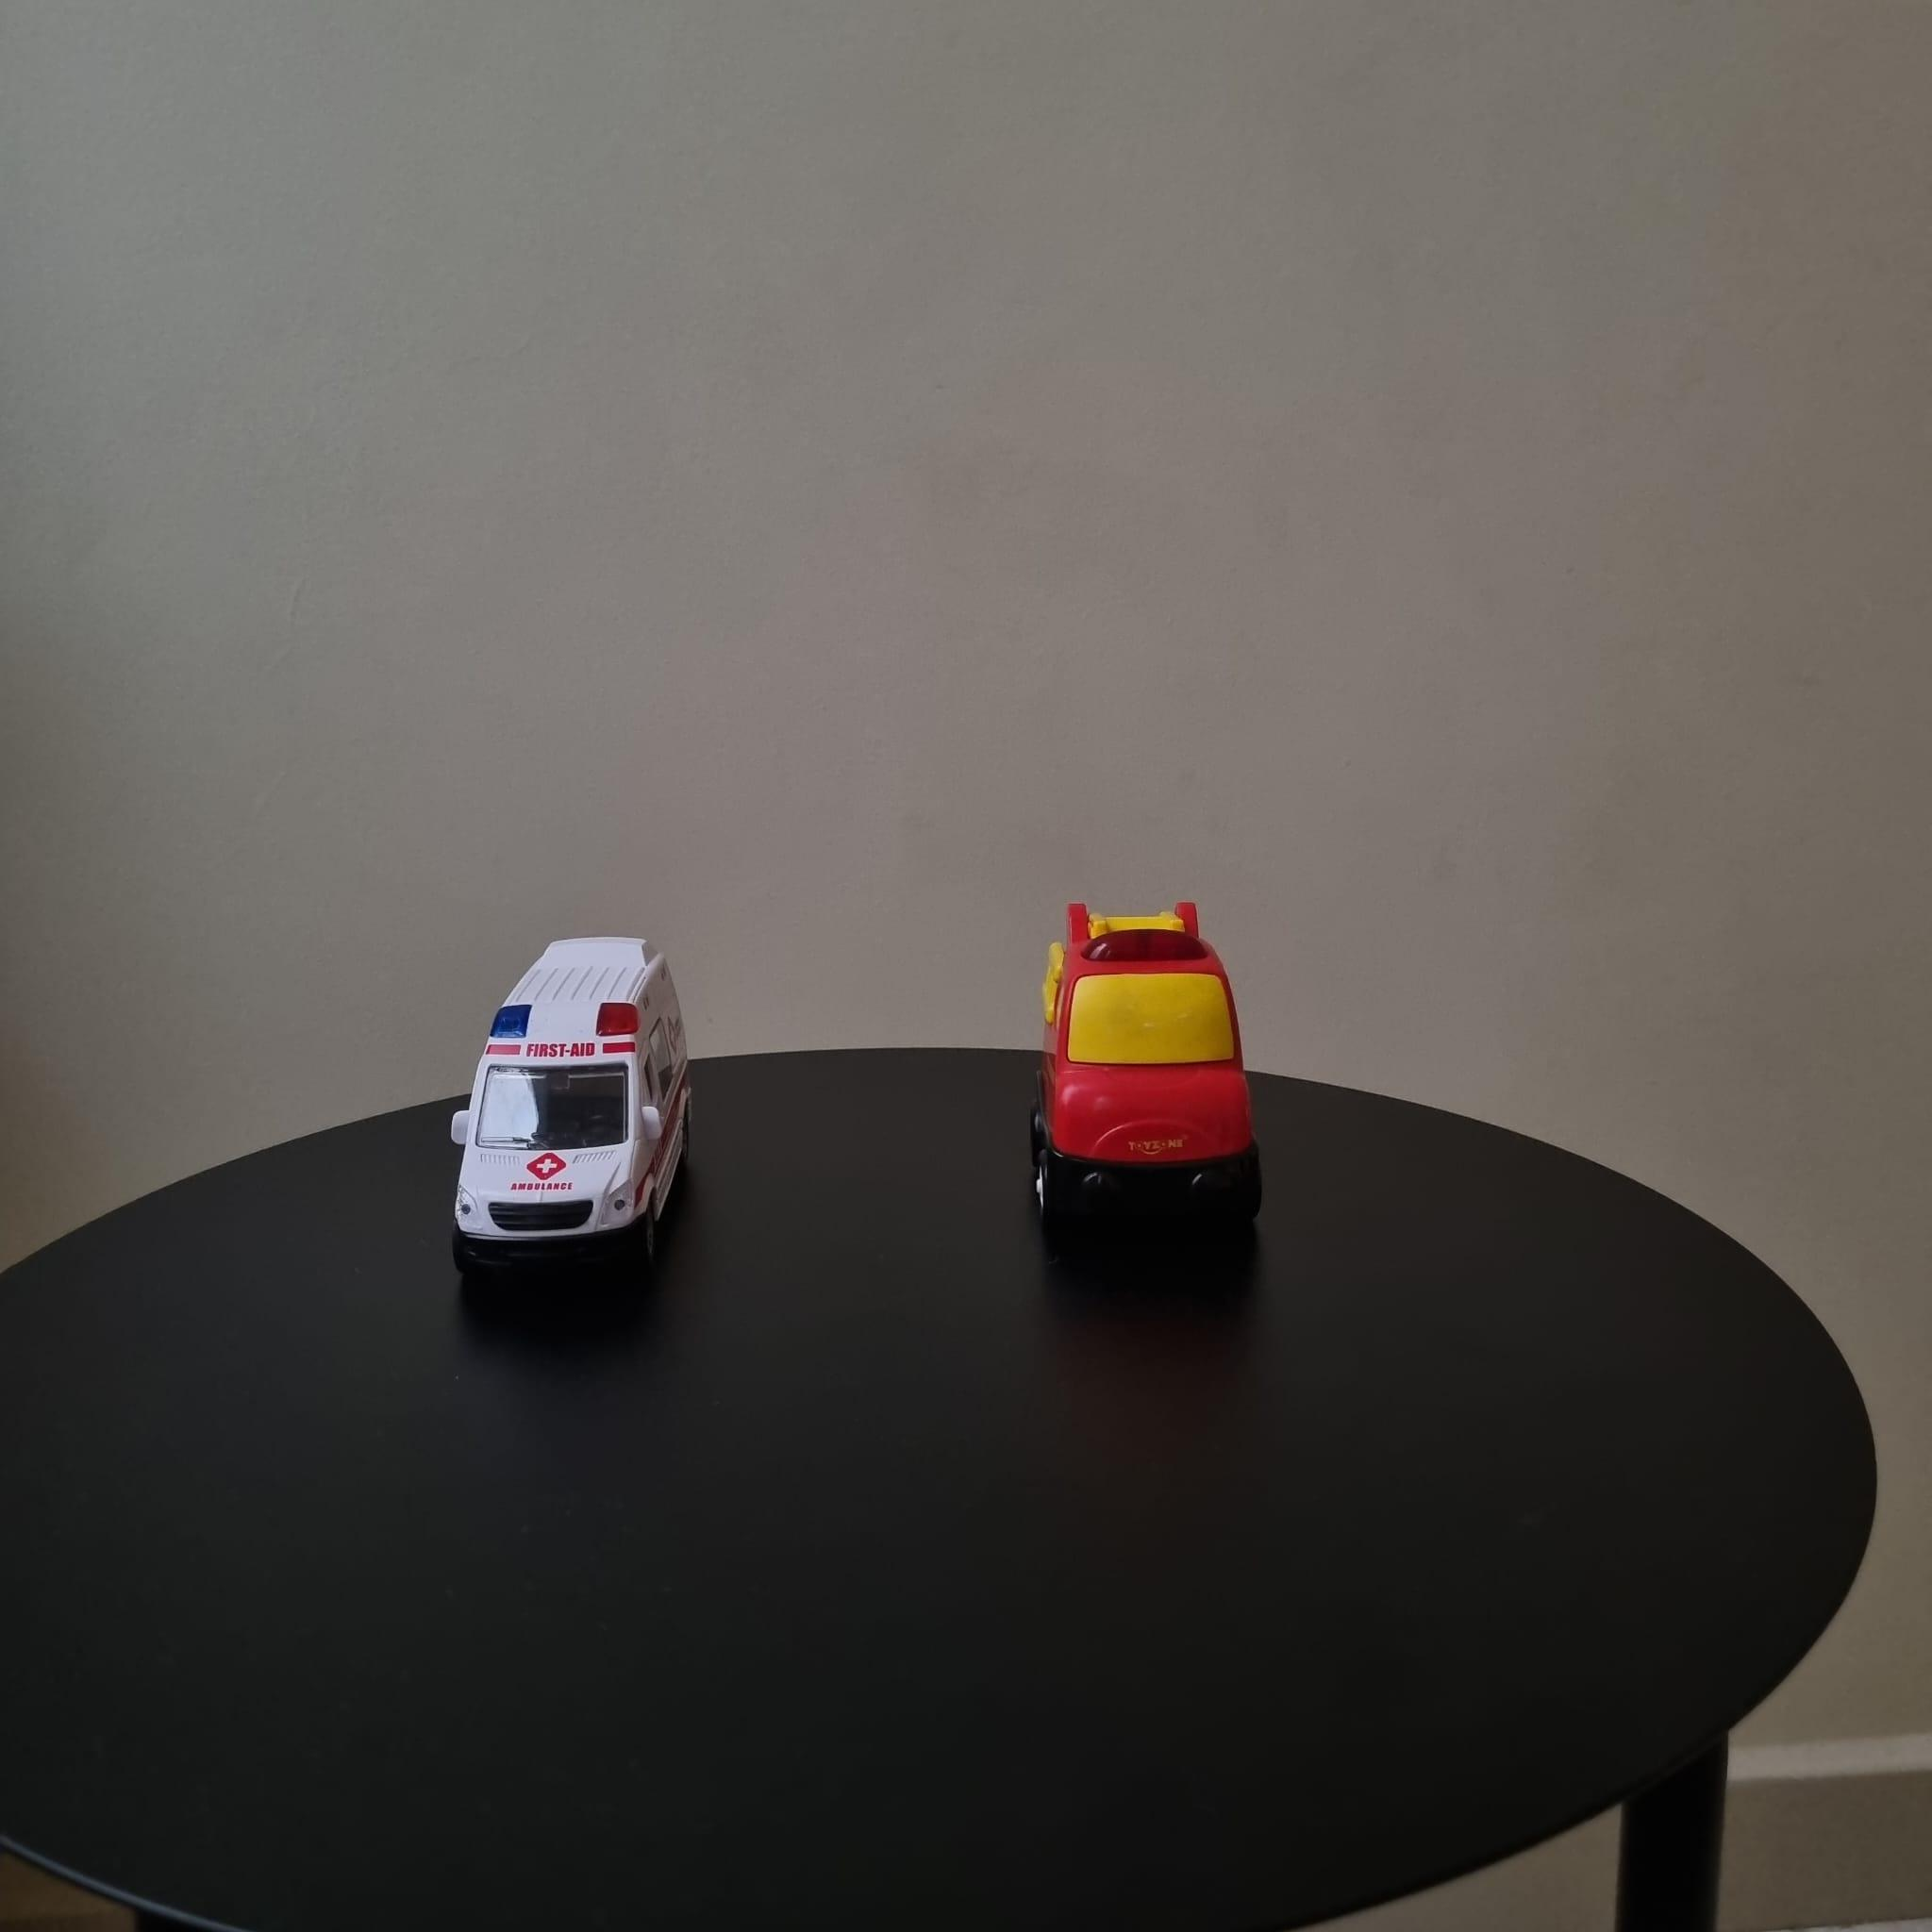ambulance_off: (449, 931, 697, 1288)
firetruck_off: (1019, 902, 1276, 1247)
